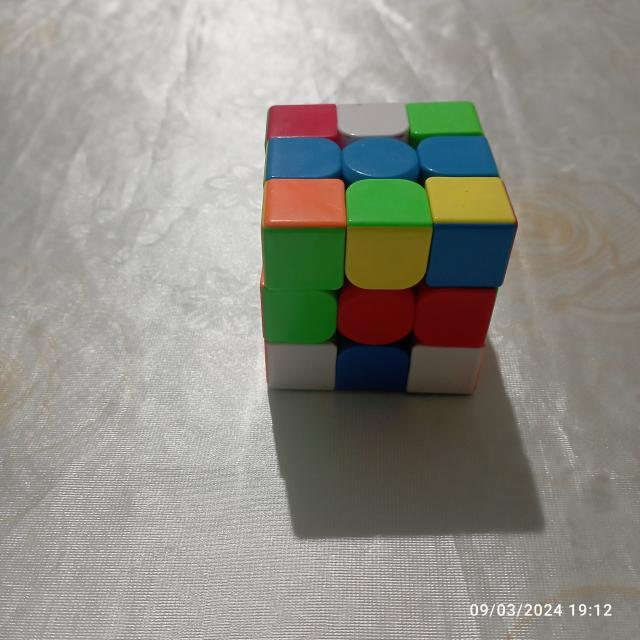Rub: (250, 100, 522, 406)
